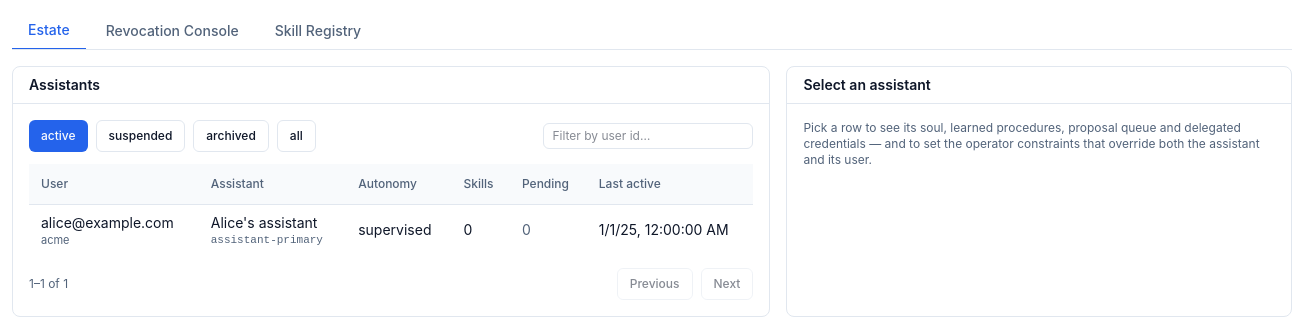
Scenario: AssistantsPanel › renders the Estate tab by default and the Revocation Console tab on demand
Expected: the text "alice@example.com" is shown, [41,212,187,232]
Expected: the text "https://idp.example.com" is not shown
Click the tab "Revocation Console" at (172, 30), box [90,12,255,49]
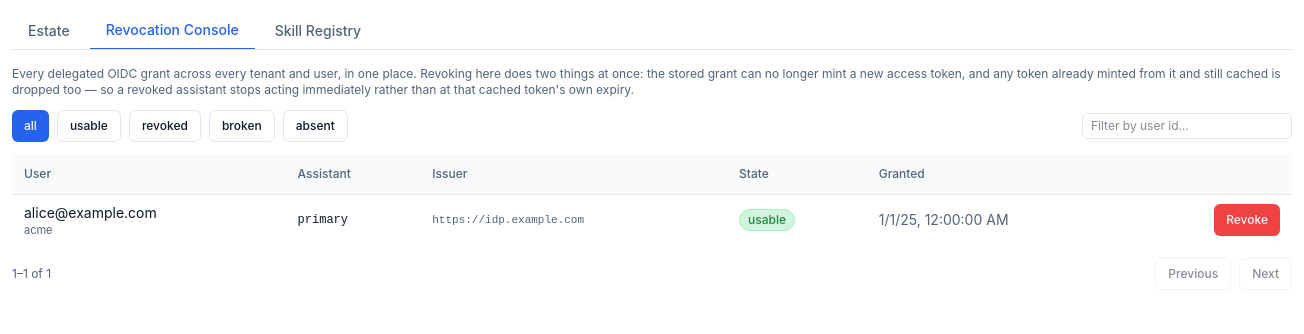
Expected: the text "https://idp.example.com" is shown, [420,194,727,246]
